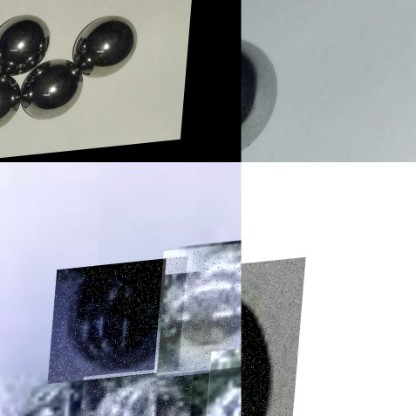ironball: (52, 259, 190, 385), (159, 244, 241, 379), (241, 261, 307, 415), (81, 369, 199, 415), (70, 13, 143, 78), (20, 61, 87, 122), (240, 36, 275, 148), (0, 10, 48, 68), (0, 70, 20, 135)
